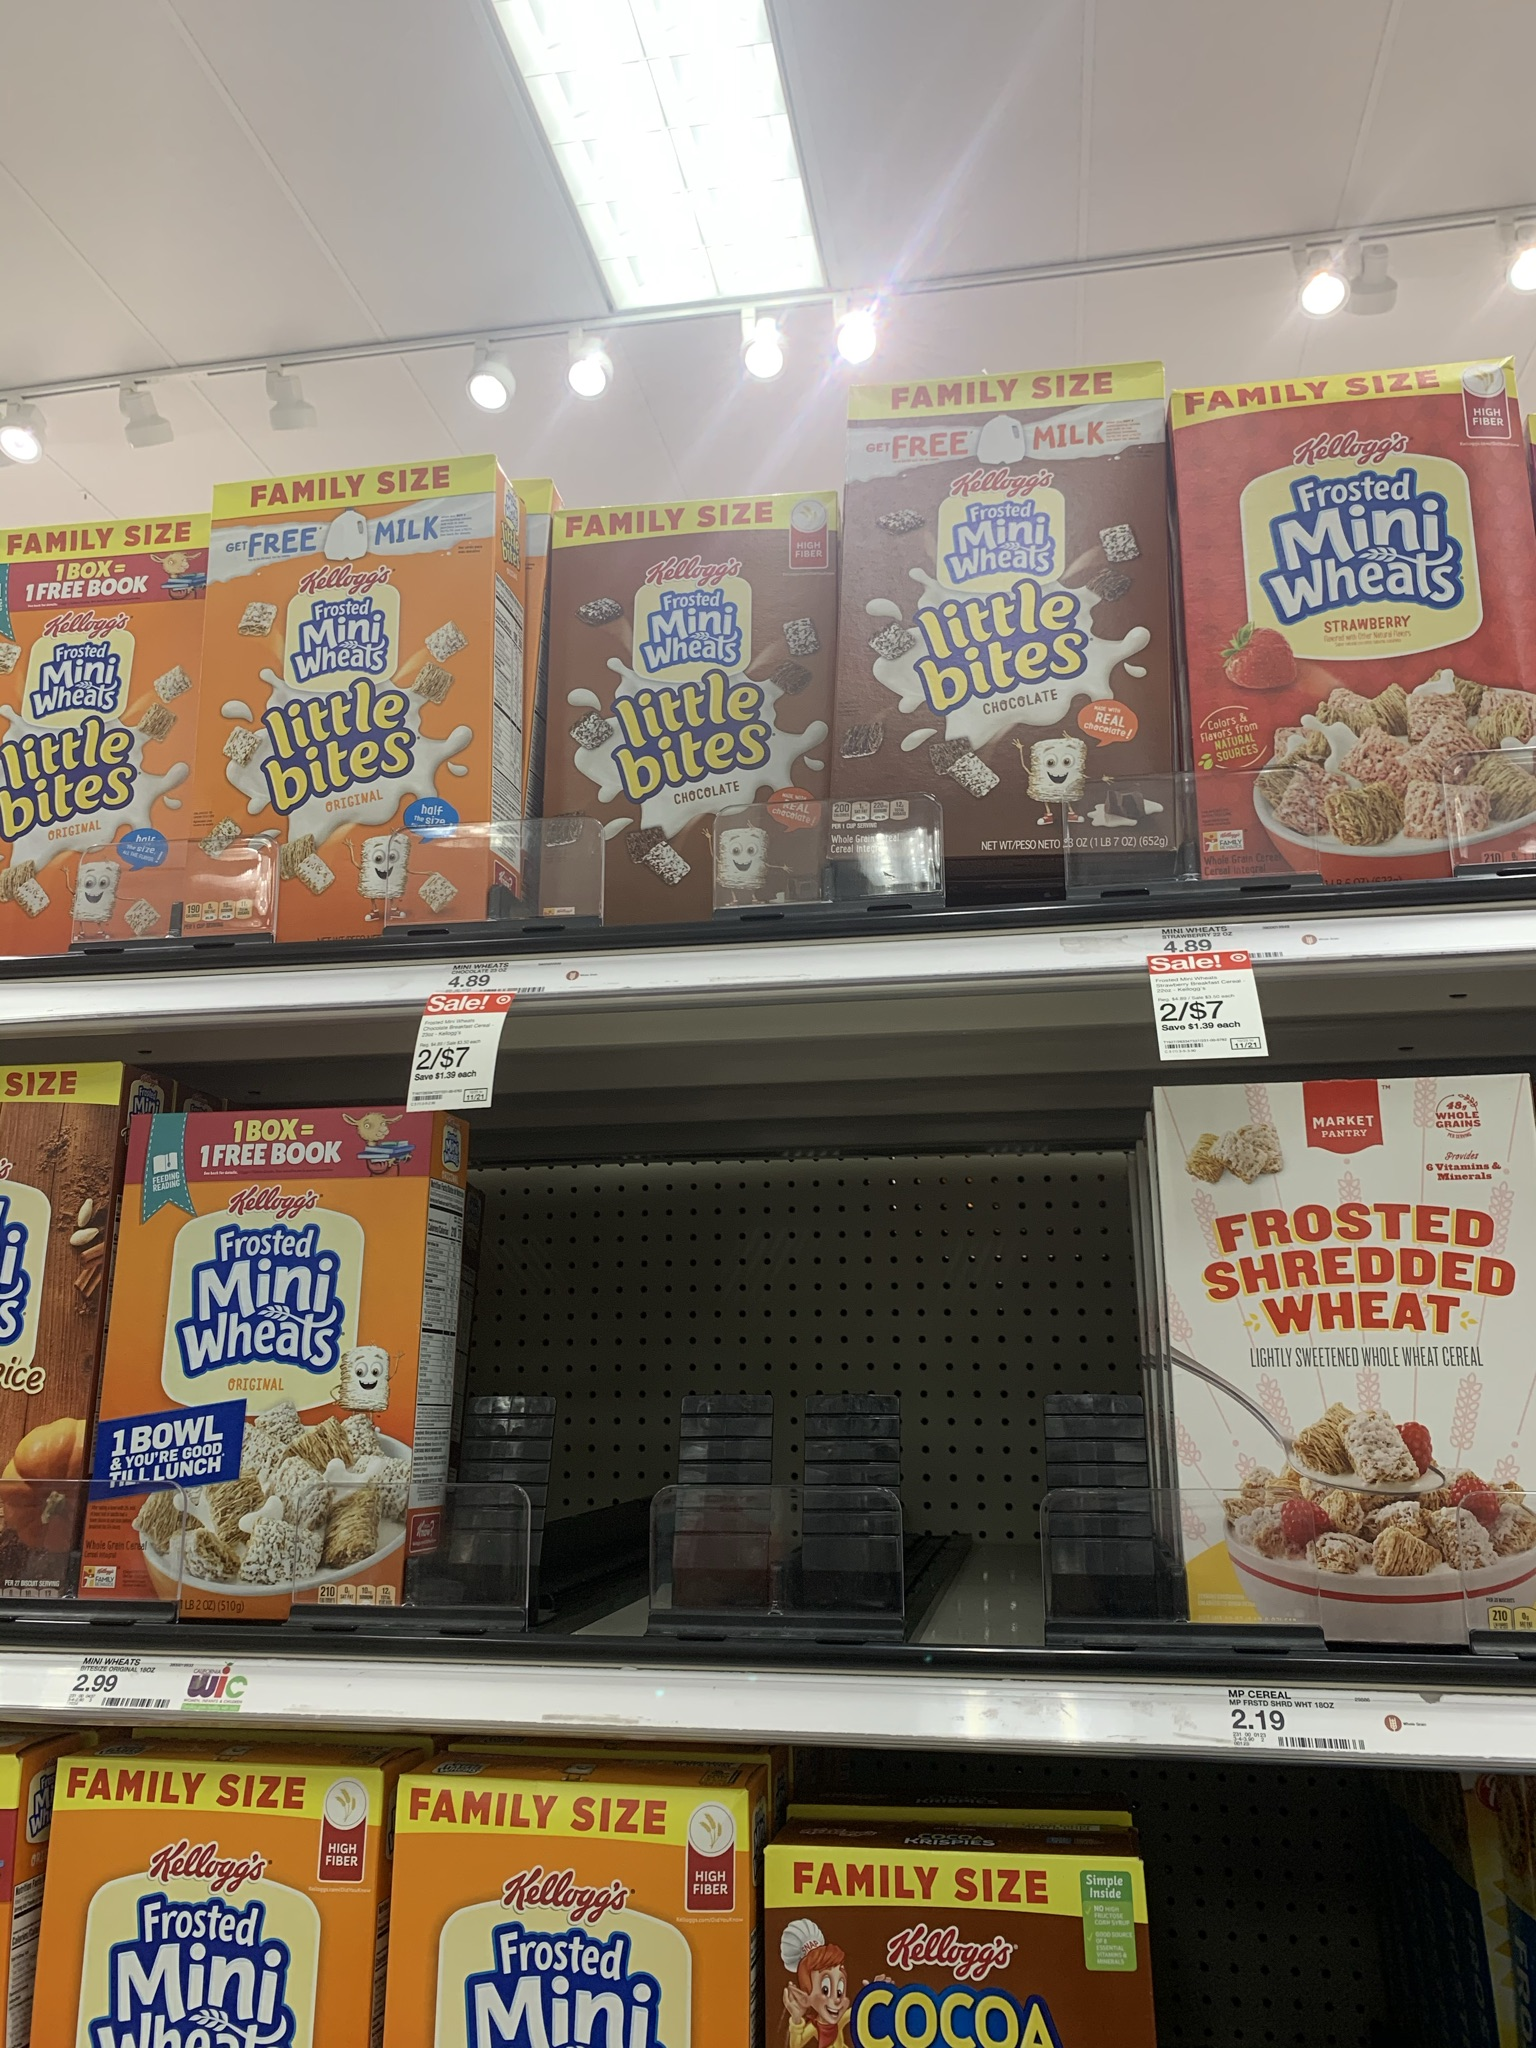Cereal frosted mini: (1152, 1085, 1536, 1629), (132, 1119, 428, 1661), (407, 1780, 724, 2048), (65, 1771, 378, 2038), (778, 1851, 1158, 2048)
Cereal little bites: (1187, 414, 1536, 864), (852, 411, 1163, 879), (215, 485, 503, 906), (578, 521, 807, 898), (6, 539, 161, 935)
